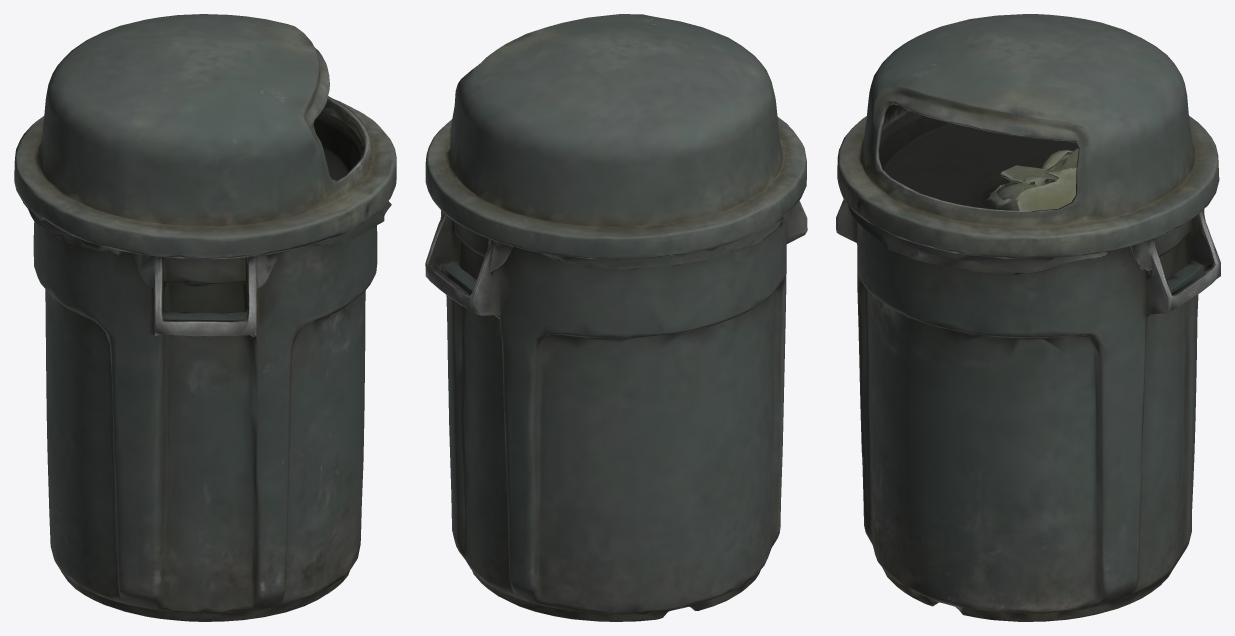
Rendered from bin.glb.
3 renders of one model, left to right at view 1: azimuth 30°, elevation 25°; view 2: azimuth 150°, elevation 25°; view 3: azimuth 270°, elevation 25°, orthographic.
Parts seen in each view (by area): view 1: tripo_node_ca268fb4-b8bc-4360-9202-87750bfbd7f0; view 2: tripo_node_ca268fb4-b8bc-4360-9202-87750bfbd7f0; view 3: tripo_node_ca268fb4-b8bc-4360-9202-87750bfbd7f0.
Boxes of the visible parts, x1=… form: tripo_node_ca268fb4-b8bc-4360-9202-87750bfbd7f0: x1=14, y1=14, x2=396, y2=621; tripo_node_ca268fb4-b8bc-4360-9202-87750bfbd7f0: x1=425, y1=14, x2=807, y2=621; tripo_node_ca268fb4-b8bc-4360-9202-87750bfbd7f0: x1=836, y1=14, x2=1220, y2=621.
Size of the model in its own units: 0.6807 by 1 by 0.6855.
Materials: 1 (1 with a texture image).
